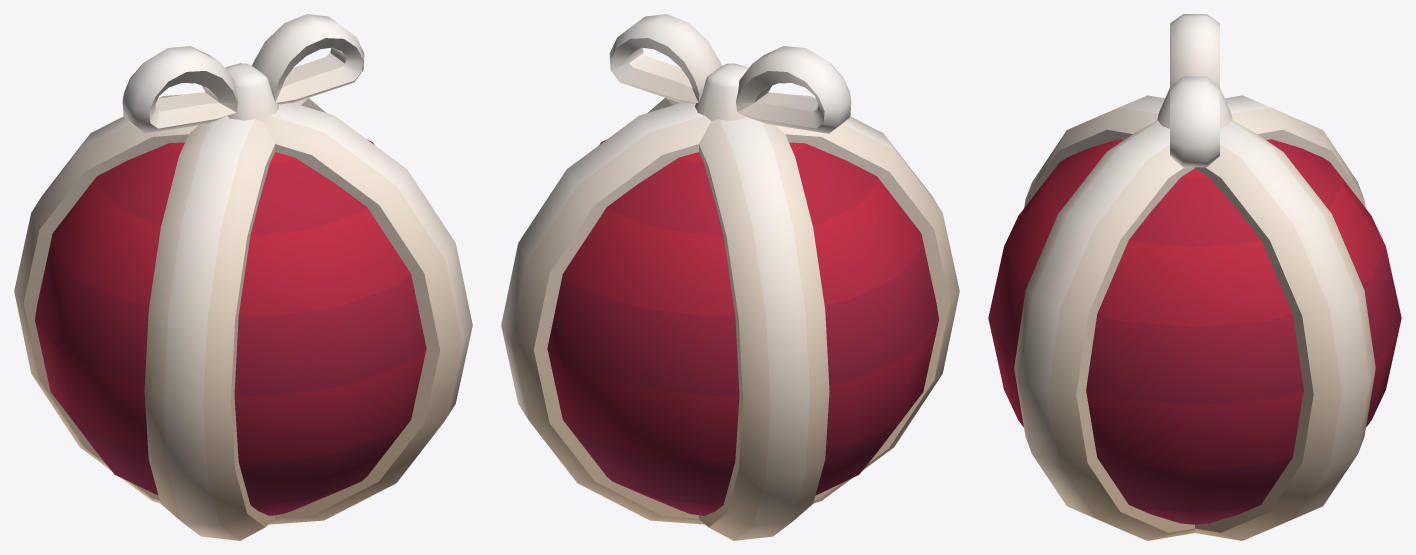
Rendered from present_sphere_B_red.glb.
3 views of the same model, side by side, from view 1: azimuth 30°, elevation 25°; view 2: azimuth 150°, elevation 25°; view 3: azimuth 270°, elevation 25° (orthographic).
Visible parts, largest first — view 1: present_sphere_B_red; view 2: present_sphere_B_red; view 3: present_sphere_B_red.
Boxes of the visible parts, box(x1,y1,x2,y2) form: present_sphere_B_red: box(14, 14, 472, 540); present_sphere_B_red: box(501, 14, 959, 540); present_sphere_B_red: box(988, 14, 1401, 540).
Size of the model in its own units: 0.7933 by 1 by 0.7933.
1 material, 1 textured.
